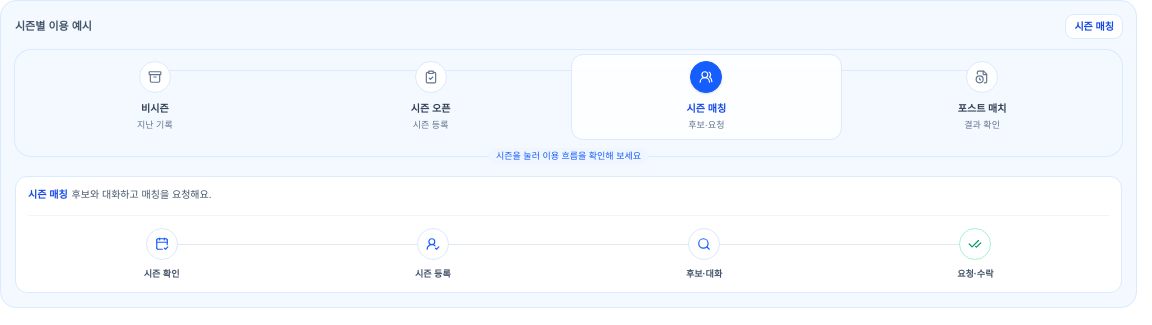
Test: LoginSeasonContextPreview › 터치·클릭으로 시즌을 선택해 detail을 전환한다
Click the tab "비시즌 지난 기록" at (155, 77), box [19,54,291,140]
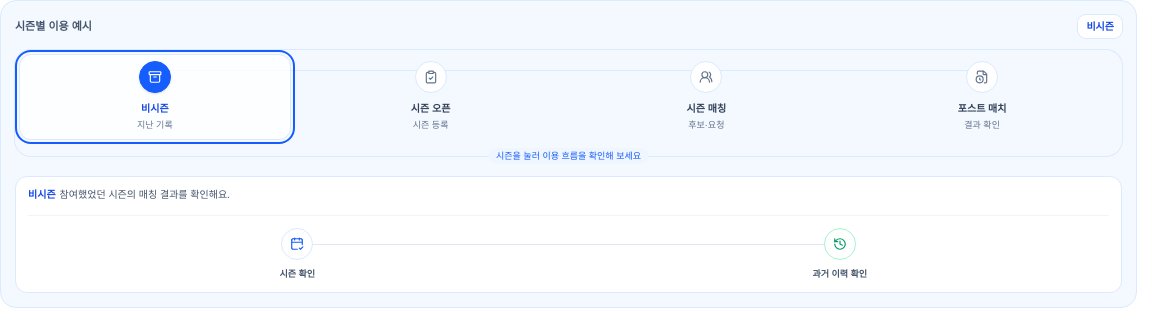
Check: the panel shows "참여했었던 시즌의 매칭 결과를 확인해요.", box [60,189,230,200]
Check: the text with test id "selected-season-label" reads "비시즌", box [1086,21,1114,32]
Check: the list named "비시즌 이용 흐름" reads "시즌 확인 과거 이력 확인", box [279,228,867,279]
